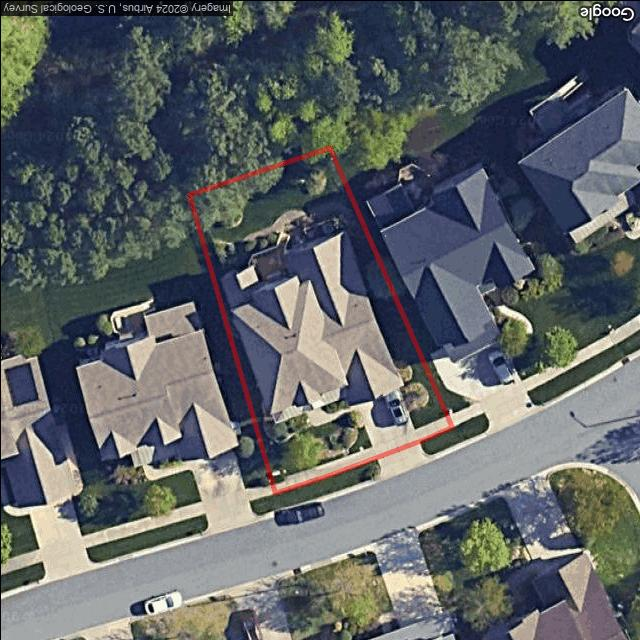Driveway: (354, 388, 418, 458)
Extra-Driveway: (376, 440, 430, 477)
Extra-Lawn: (273, 459, 379, 508), (419, 428, 457, 454)
House: (217, 228, 403, 423)
Lawn: (188, 147, 451, 492)
Other: (208, 200, 363, 284), (293, 412, 362, 458), (261, 405, 309, 442), (401, 383, 428, 410), (393, 359, 411, 380)
Sidewalk: (272, 446, 375, 493), (303, 404, 357, 427), (414, 416, 452, 442)
